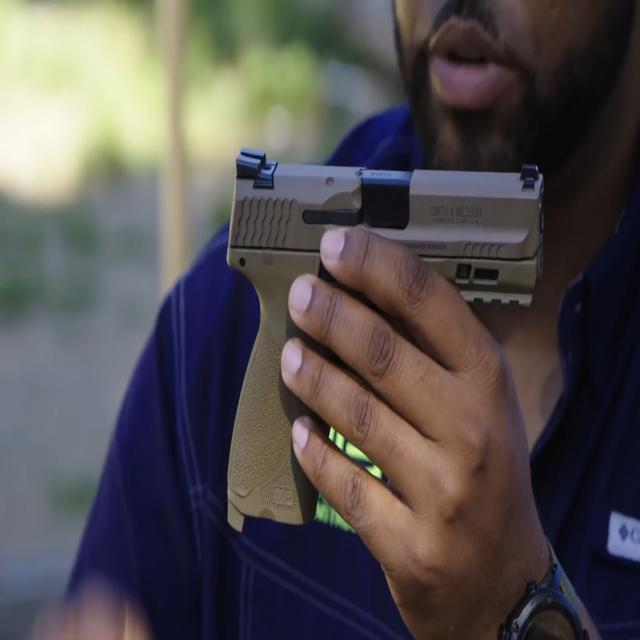handgun: (205, 125, 555, 536)
